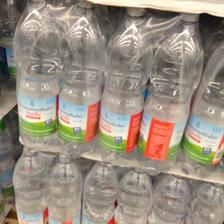Wasser: (139, 13, 201, 171), (98, 7, 150, 166), (58, 2, 102, 158), (13, 0, 59, 146), (43, 149, 82, 223), (10, 149, 48, 223), (81, 156, 119, 224), (148, 171, 192, 223), (114, 165, 152, 223)
